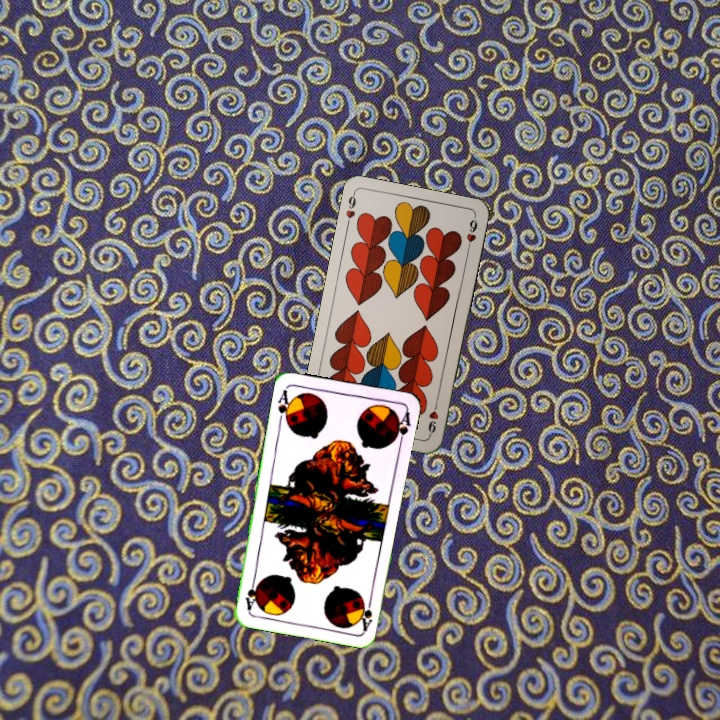H9: (424, 398, 441, 438), (342, 189, 359, 229)
SA: (274, 385, 295, 427), (357, 592, 375, 633)
